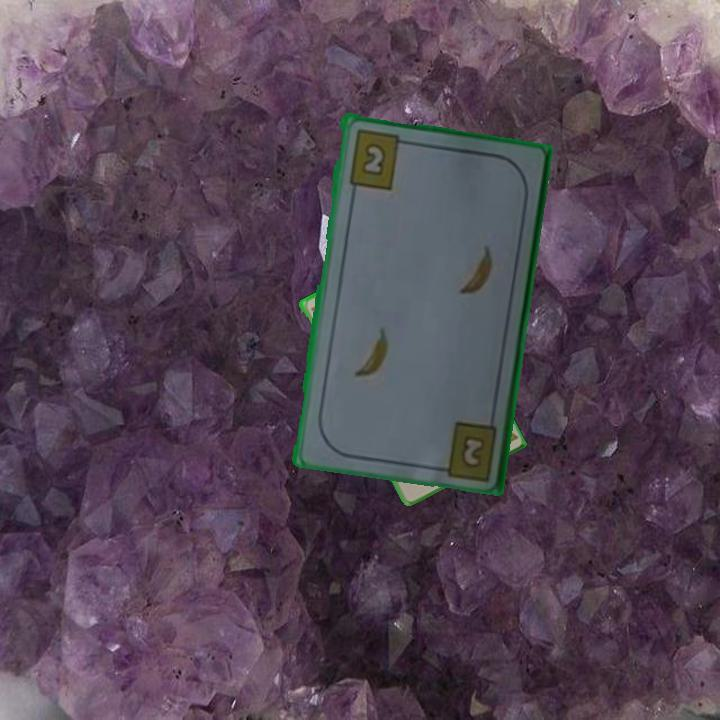2b: (345, 125, 411, 192), (459, 431, 488, 468)
